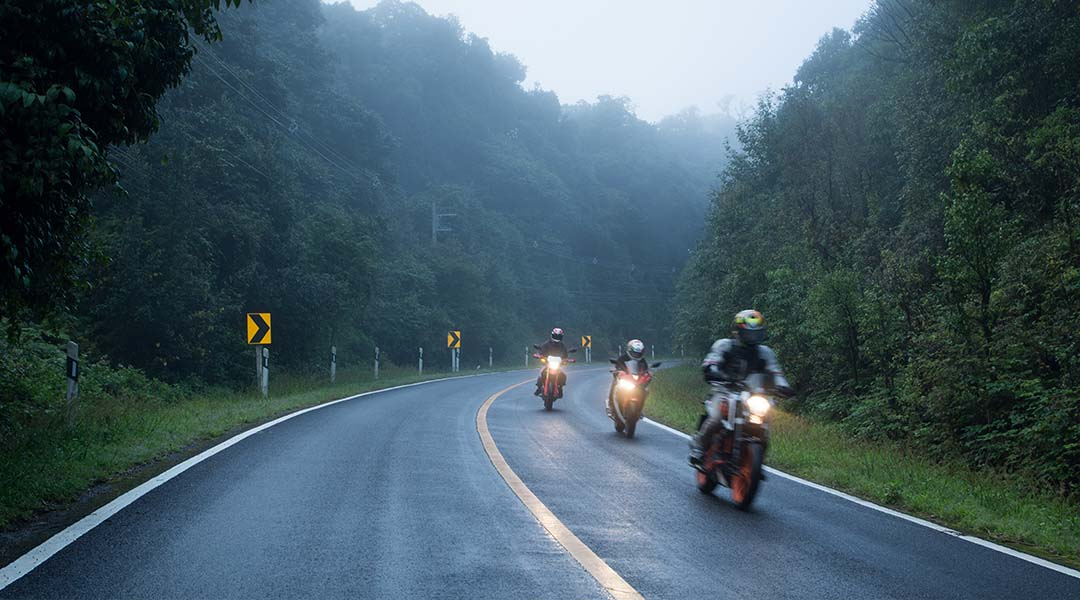Motorcycle: (688, 379, 784, 506), (599, 368, 659, 435), (530, 354, 570, 410)
